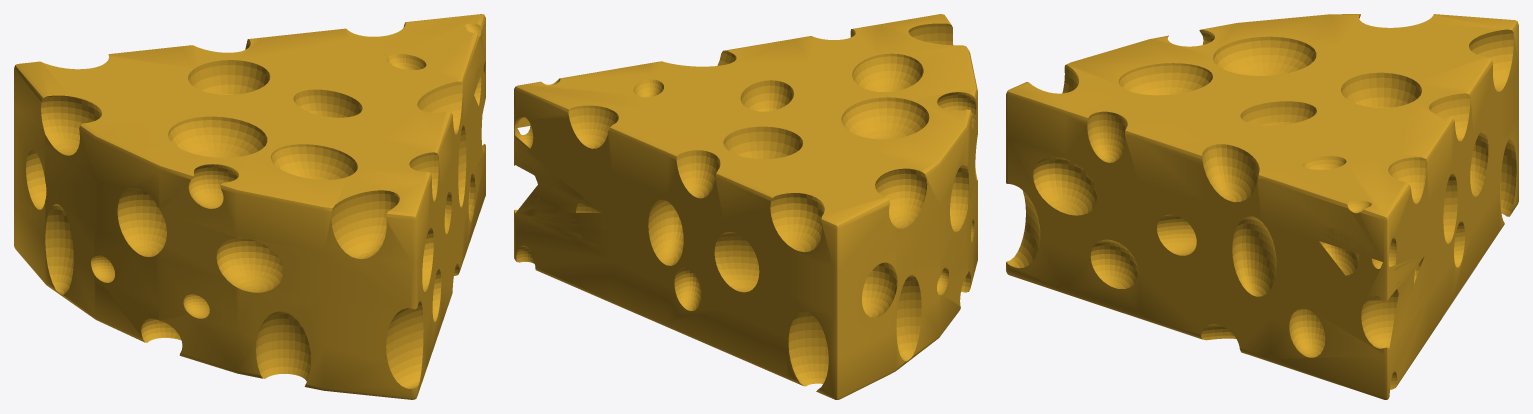
File: Formaggio.fbx
3 renders of one model, left to right at view 1: azimuth 30°, elevation 25°; view 2: azimuth 150°, elevation 25°; view 3: azimuth 270°, elevation 25°, orthographic. The views are drawn at different scales.
Parts seen in each view (by area): view 1: Cheese.001; view 2: Cheese.001; view 3: Cheese.001.
Boxes of the visible parts, x1,y1,x2,y2 form: Cheese.001: [14, 14, 485, 399]; Cheese.001: [514, 14, 977, 399]; Cheese.001: [1006, 14, 1518, 399].
Bounding box in the file's own units: 53.23 × 22.51 × 56.28.
